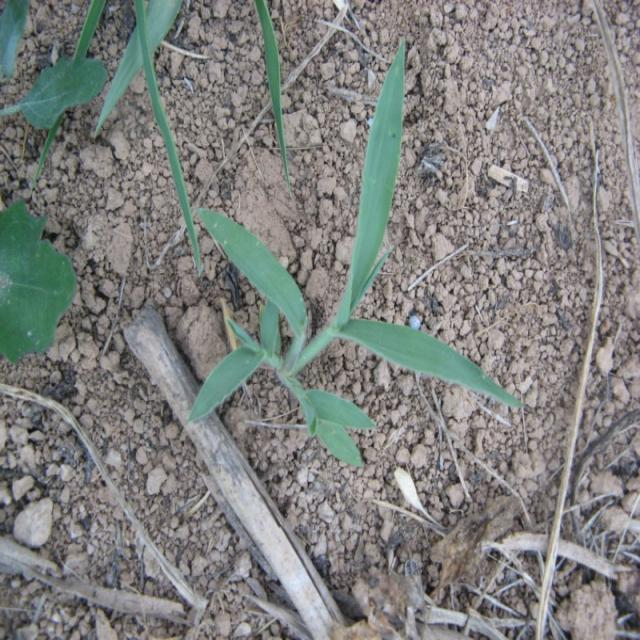bg: (192, 40, 530, 463)
